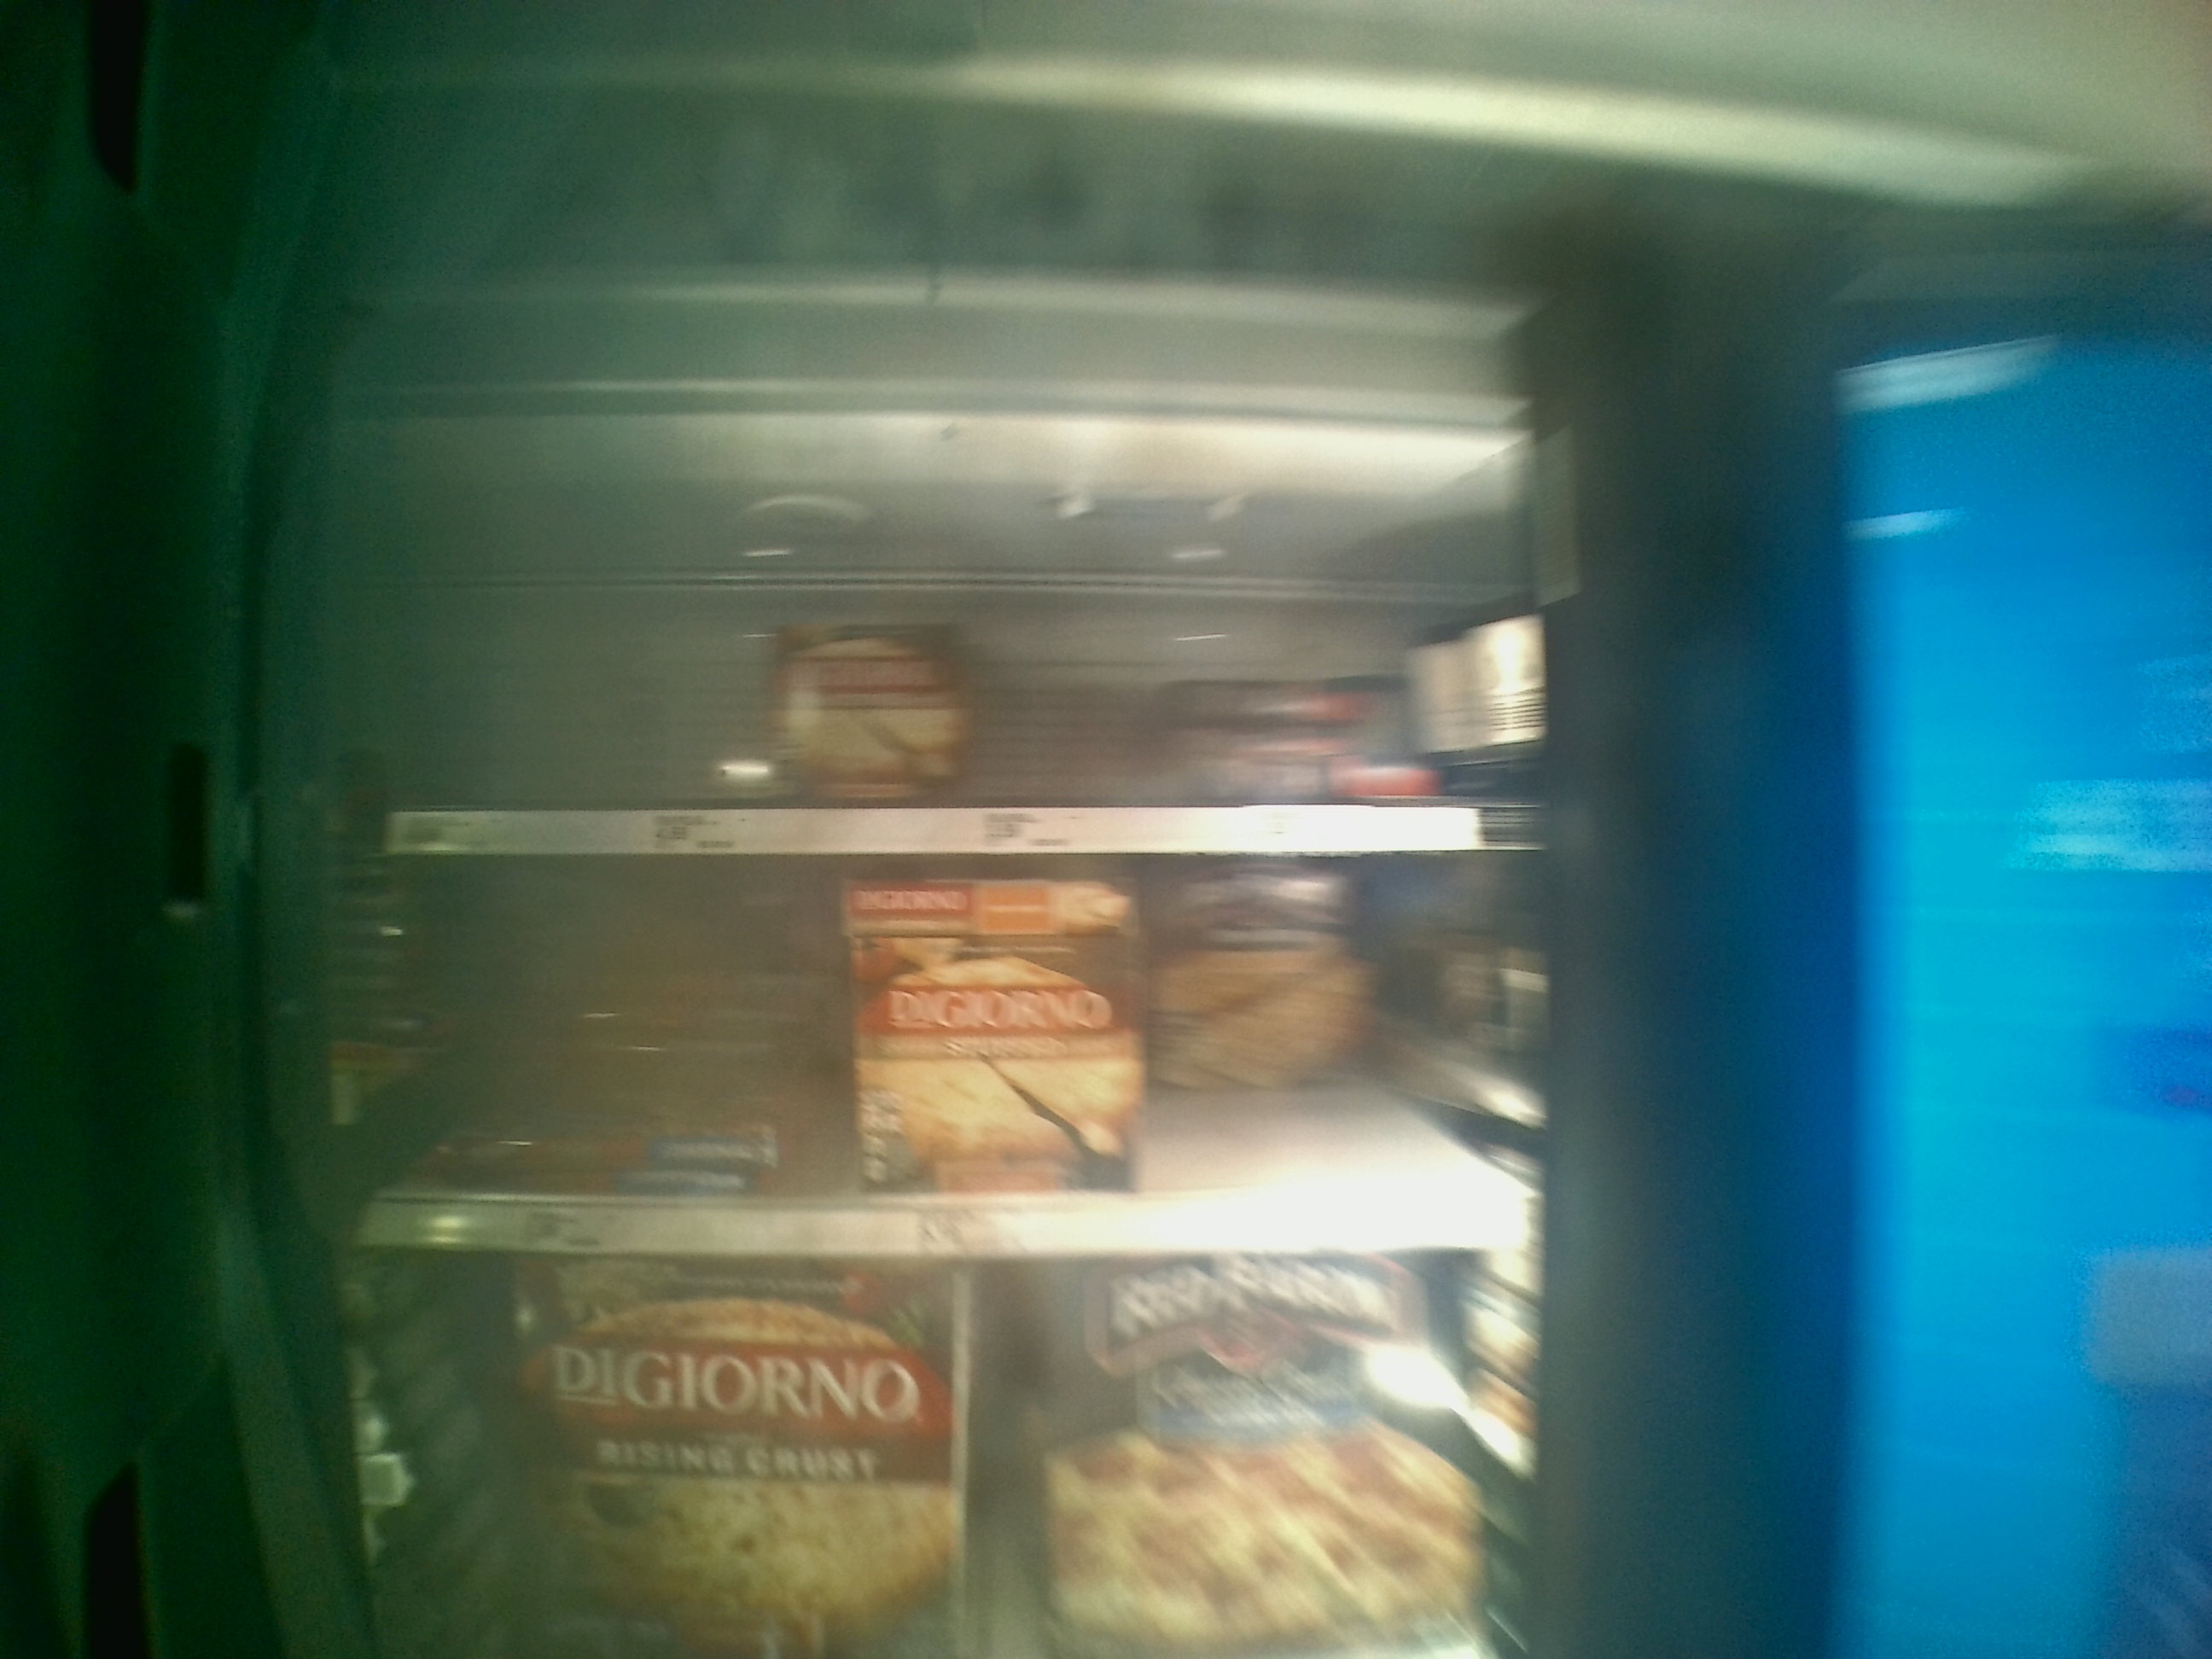shelf: (383, 859, 1538, 1267), (388, 484, 1538, 859)
